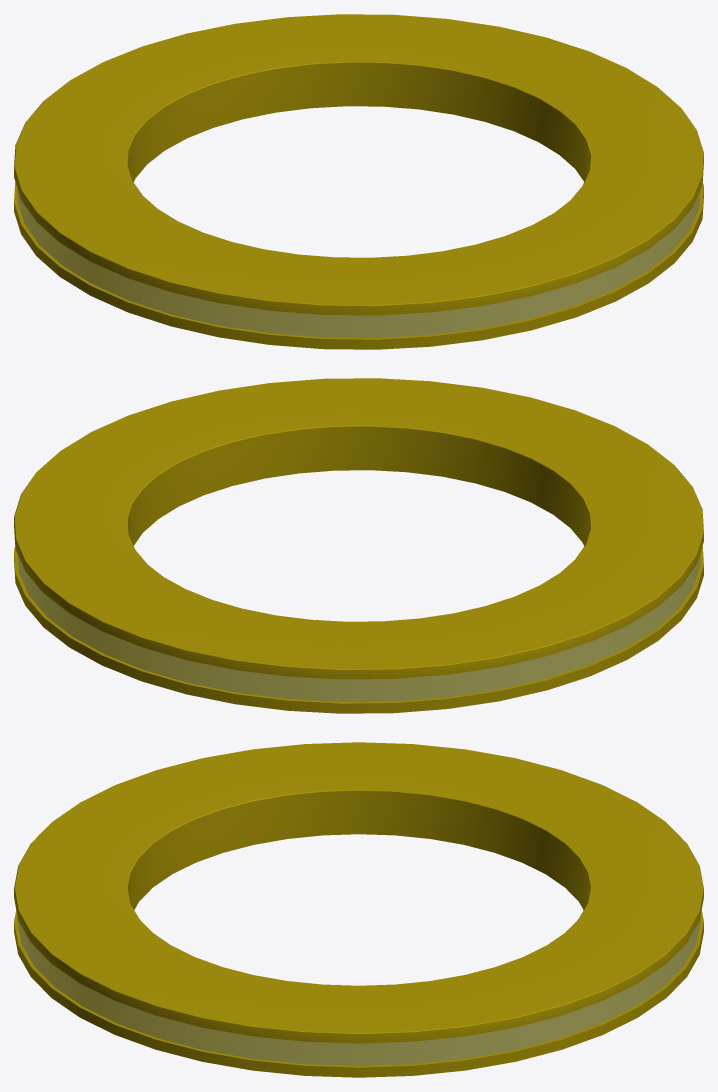
The model's file is OV Elevator Ring.fbx.
The picture shows the model from 3 angles, top to bottom: view 1: azimuth 30°, elevation 25°; view 2: azimuth 150°, elevation 25°; view 3: azimuth 270°, elevation 25°; orthographic projection.
Parts seen in each view (by area): view 1: pPipe2; view 2: pPipe2; view 3: pPipe2.
Boxes of the visible parts, <box> form: pPipe2: <box>14,14,703,349</box>; pPipe2: <box>14,378,703,713</box>; pPipe2: <box>14,742,703,1077</box>.
Size of the model in its own units: 330 by 23.39 by 330.
